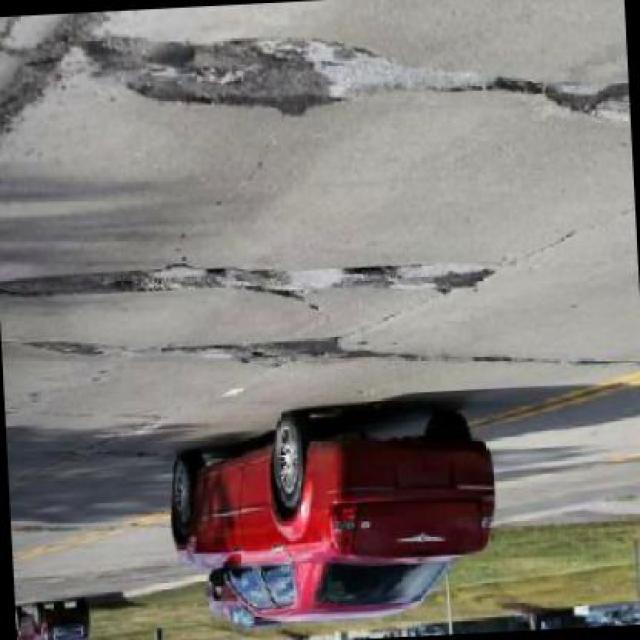pothole1: (88, 21, 352, 130), (0, 263, 237, 306), (196, 336, 350, 376), (544, 78, 628, 120), (345, 262, 403, 287)
